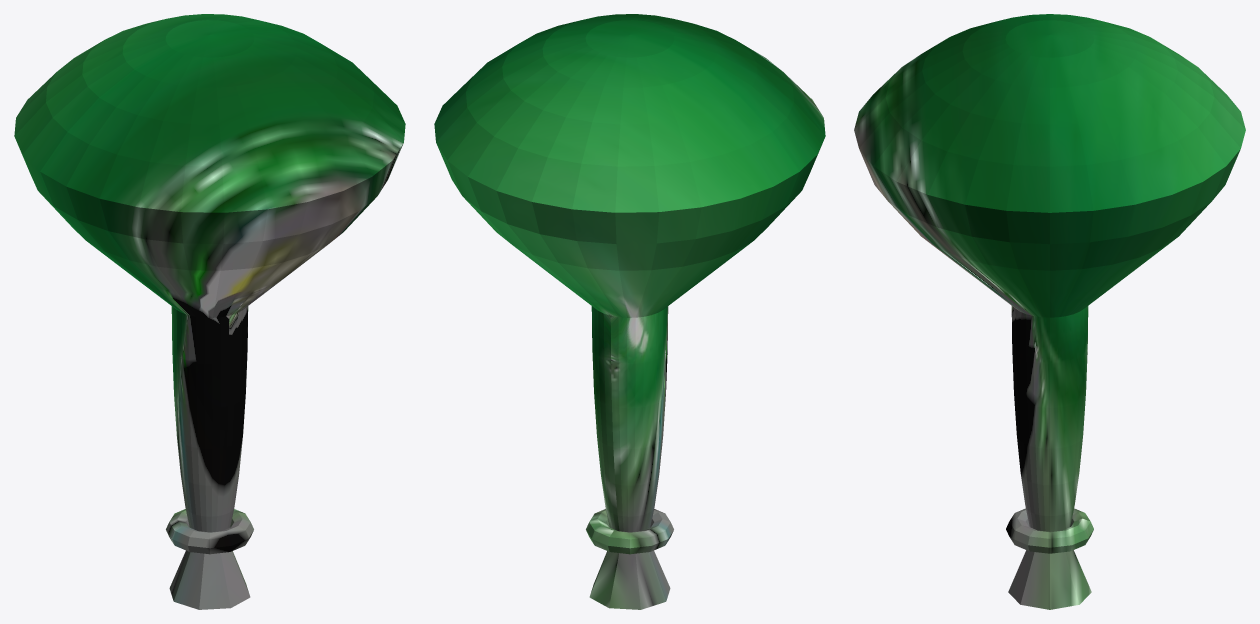
The model's file is bloon_green.glb.
The picture shows the model from 3 angles, left to right: view 1: azimuth 30°, elevation 25°; view 2: azimuth 150°, elevation 25°; view 3: azimuth 270°, elevation 25°; orthographic projection.
Parts seen in each view (by area): view 1: bloon_green; view 2: bloon_green; view 3: bloon_green.
Boxes of the visible parts, bbox=[...] form: bloon_green: bbox=[14, 14, 405, 609]; bloon_green: bbox=[434, 14, 825, 609]; bloon_green: bbox=[854, 14, 1245, 609].
Bounding box in the file's own units: 0.7965 × 1.25 × 0.7965.
1 material, 1 textured.
